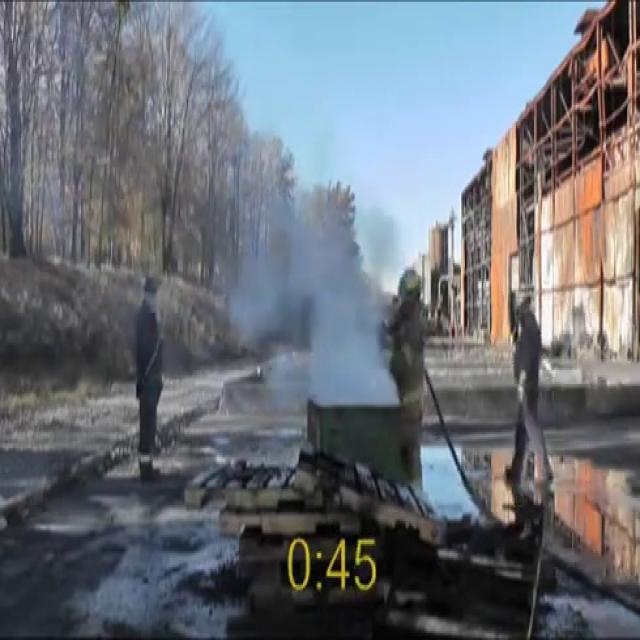Smoke: (226, 126, 404, 418)
